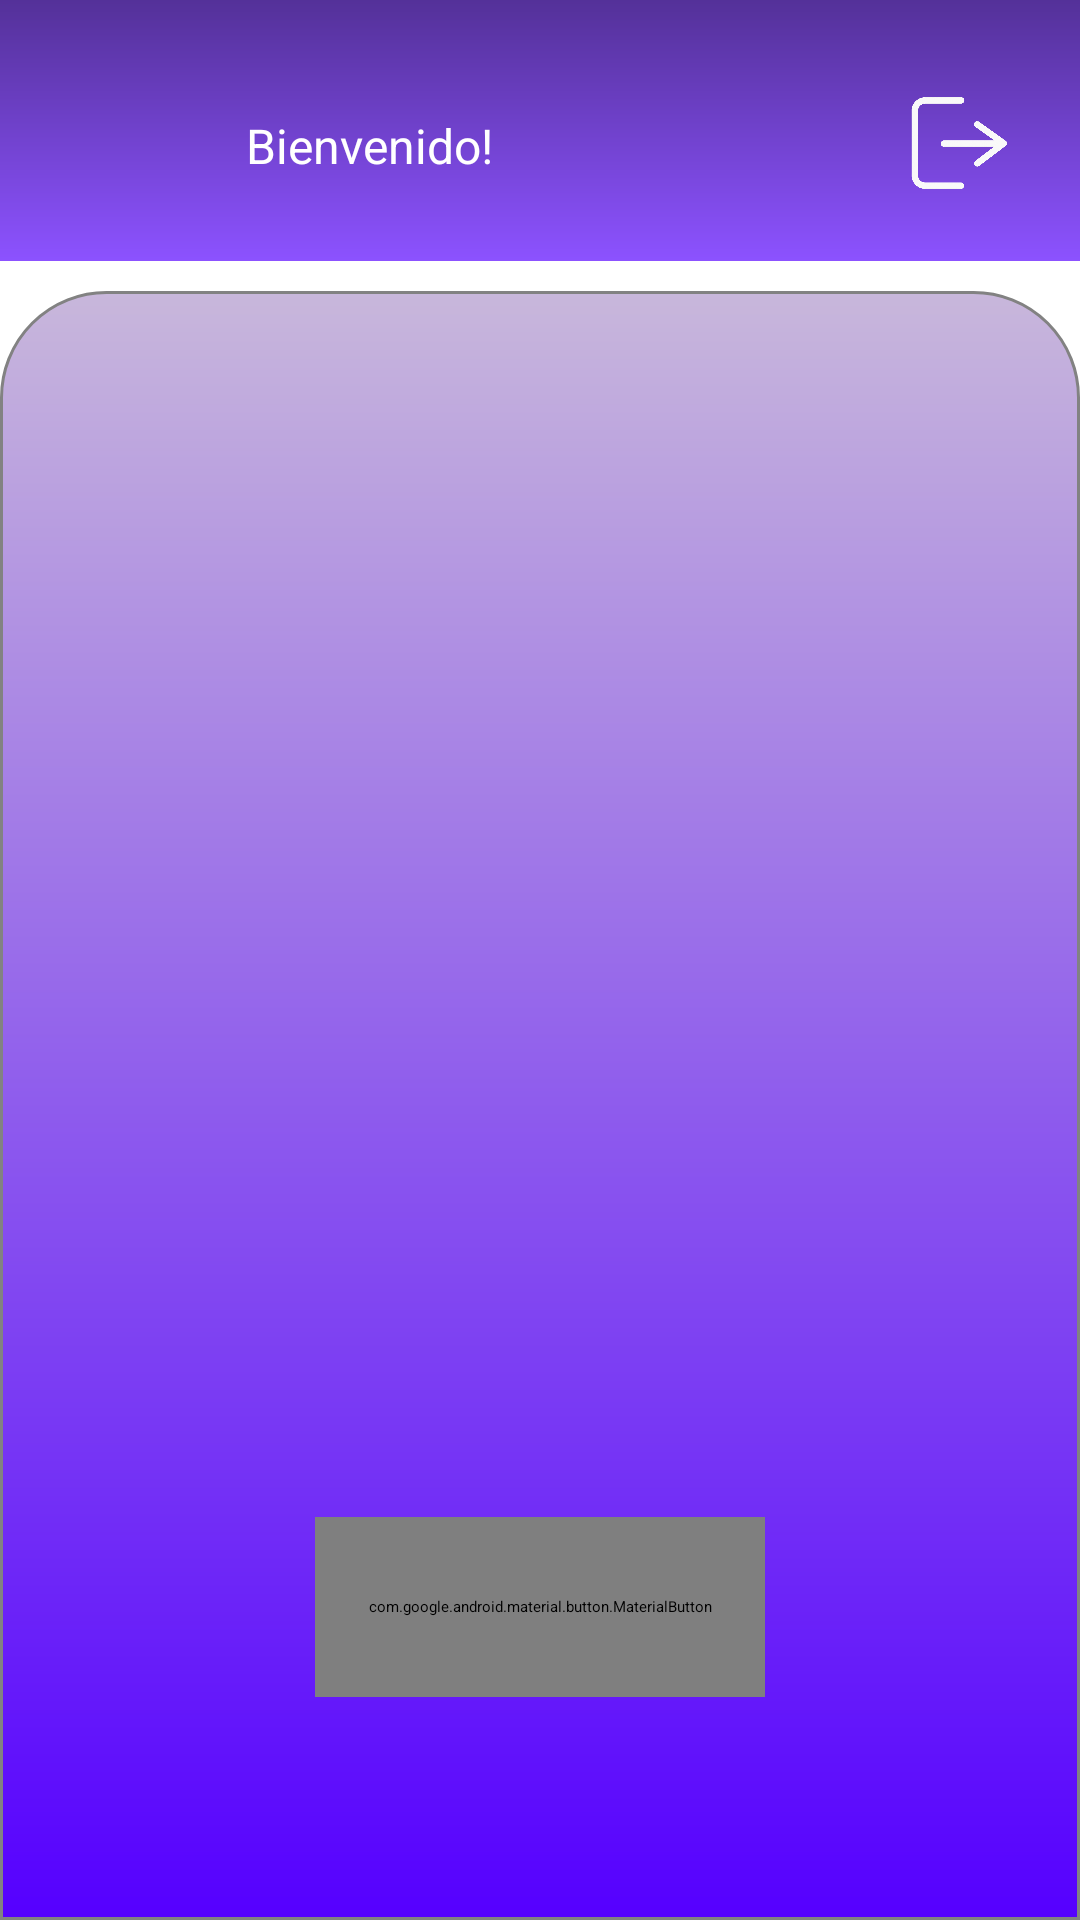

Screen size 1080px×1920px. Icon name, then its center in pixels as [x,y]:
salir: [957,145]
